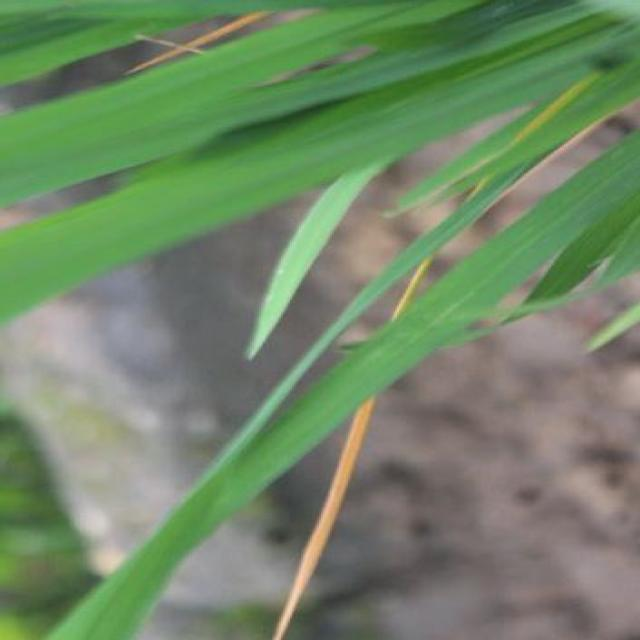Tungro: (266, 374, 400, 640), (118, 0, 332, 86)
